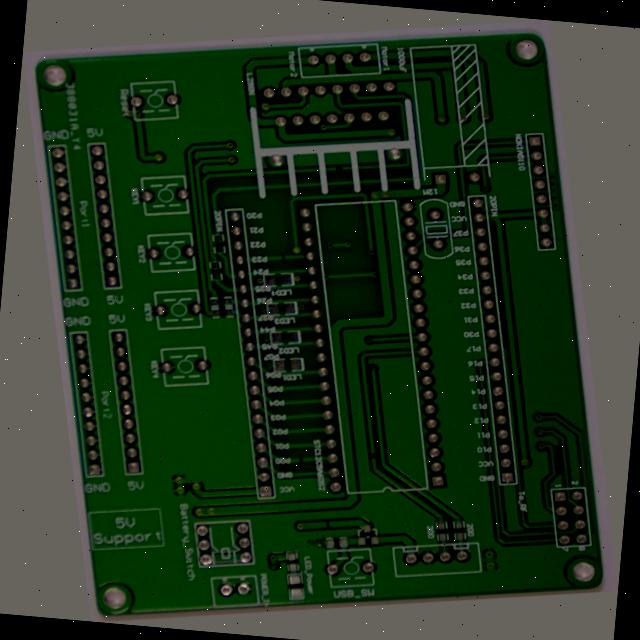open_circuit: (284, 235, 297, 251), (371, 151, 389, 161), (344, 469, 356, 483), (258, 461, 270, 475), (273, 539, 286, 550)
